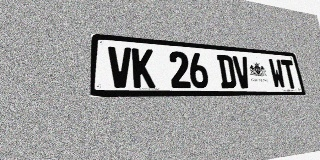2: (169, 51, 191, 88)
6: (188, 52, 209, 88)
D: (217, 54, 237, 88)
K: (132, 48, 155, 88)
T: (280, 59, 298, 89)
V: (108, 46, 132, 88), (232, 56, 252, 88)
W: (268, 58, 287, 89)
